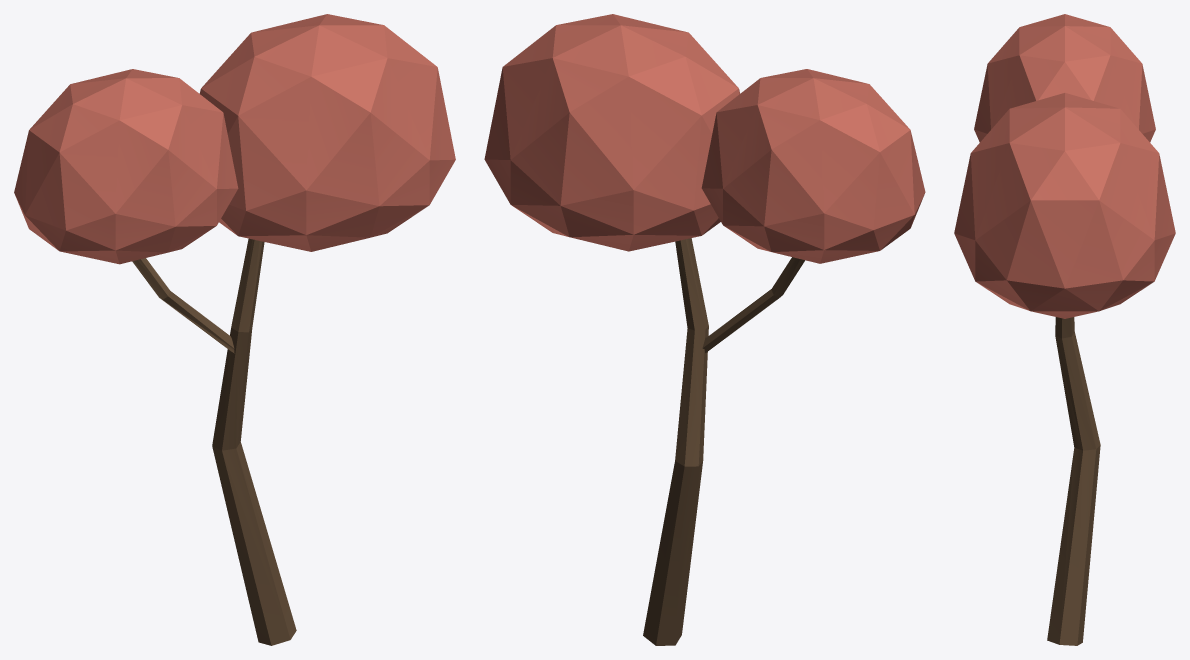
File: tree_red_5.glb
3 renders of one model, left to right at view 1: azimuth 30°, elevation 25°; view 2: azimuth 150°, elevation 25°; view 3: azimuth 270°, elevation 25°, orthographic. The views are drawn at different scales.
Parts seen in each view (by area): view 1: Tree Red 6; view 2: Tree Red 6; view 3: Tree Red 6.
Part boxes in pixels (bbox=[...]): Tree Red 6: bbox=[14, 14, 455, 645]; Tree Red 6: bbox=[484, 14, 925, 645]; Tree Red 6: bbox=[954, 14, 1175, 645].
Size of the model in its own units: 0.1788 by 0.2475 by 0.0893.
